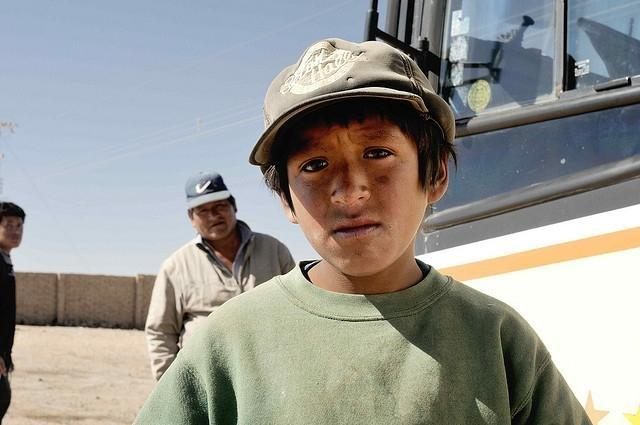bus: (364, 2, 640, 416)
